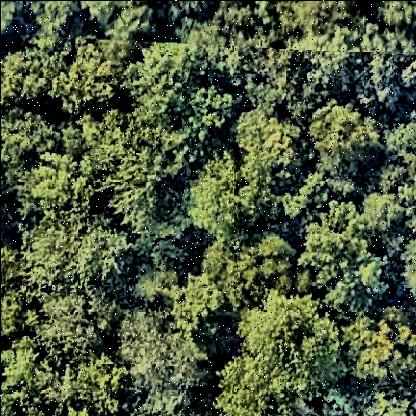tree-top: (210, 297, 352, 416), (111, 311, 208, 401), (197, 235, 306, 314), (108, 148, 194, 242), (24, 209, 125, 287), (303, 223, 389, 314), (181, 160, 273, 241), (309, 102, 387, 185), (37, 281, 116, 359), (280, 1, 371, 67), (125, 47, 198, 121), (235, 109, 309, 182), (22, 155, 100, 221), (1, 31, 74, 100), (342, 319, 416, 385), (62, 35, 118, 114), (190, 1, 265, 57), (368, 27, 416, 101), (84, 1, 158, 46), (2, 109, 56, 169), (121, 255, 184, 305), (1, 336, 53, 393), (184, 81, 236, 137), (168, 274, 220, 328), (355, 189, 406, 242), (25, 1, 83, 36)
